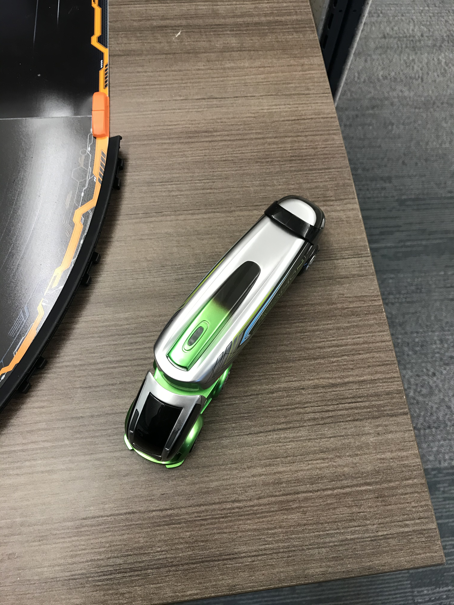Freewheel: (124, 195, 326, 473)
